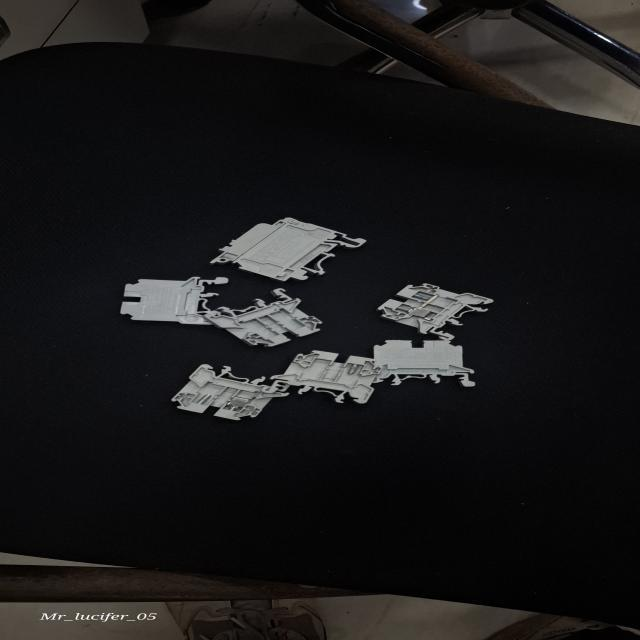Inverted: (371, 338, 478, 388), (123, 278, 229, 328)
Reject: (374, 282, 498, 339), (205, 288, 322, 346), (172, 363, 284, 422), (274, 350, 378, 406)
